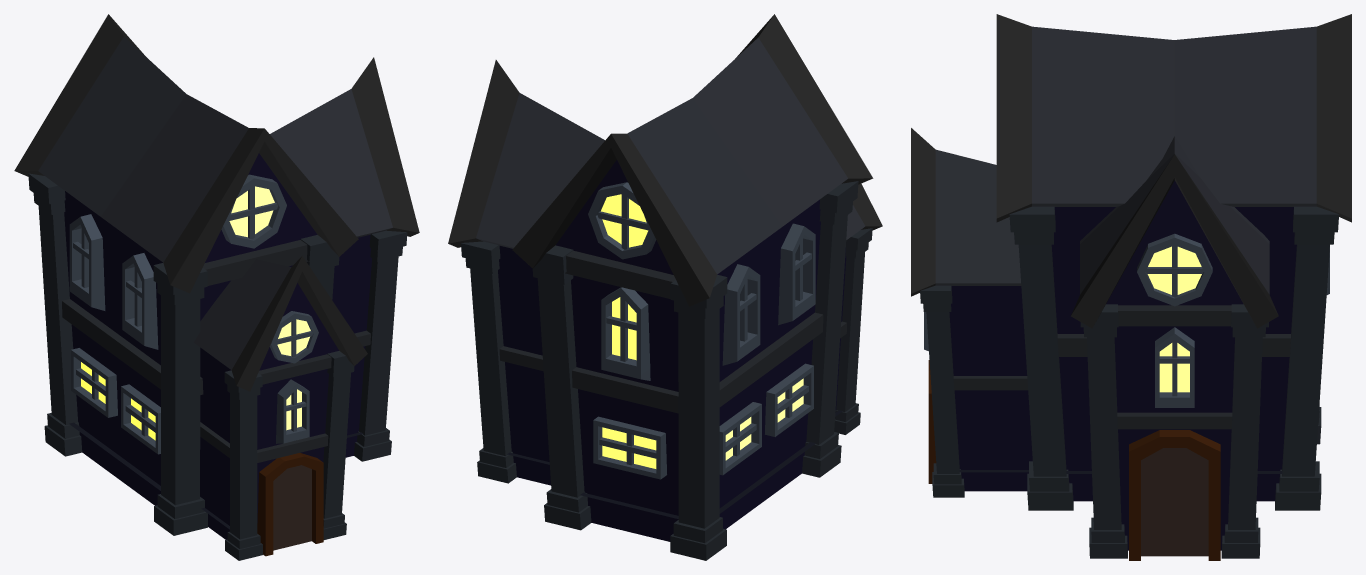
File: CasaGoticaVariante1_Casa03.fbx
3 renders of one model, left to right at view 1: azimuth 30°, elevation 25°; view 2: azimuth 150°, elevation 25°; view 3: azimuth 270°, elevation 25°, orthographic. The views are drawn at different scales.
Parts seen in each view (by area): view 1: Teto03, Pilar03, Parede03, JanelaMolde03, Divisa03, Porta03, PortaContorno03, JanelaFundo03, Base03; view 2: Teto03, Pilar03, Parede03, JanelaMolde03, Divisa03, JanelaFundo03, Base03; view 3: Teto03, Parede03, Pilar03, Porta03, Divisa03, JanelaMolde03, PortaContorno03, JanelaFundo03.
Boxes of the visible parts, x1=… form: Teto03: x1=14, y1=14, x2=419, y2=391; Pilar03: x1=28, y1=173, x2=407, y2=560; Parede03: x1=64, y1=153, x2=371, y2=539; JanelaMolde03: x1=69, y1=174, x2=318, y2=454; Divisa03: x1=62, y1=240, x2=370, y2=462; Porta03: x1=273, y1=465, x2=311, y2=550; PortaContorno03: x1=257, y1=453, x2=323, y2=556; JanelaFundo03: x1=81, y1=186, x2=310, y2=440; Base03: x1=69, y1=422, x2=362, y2=529; Teto03: x1=448, y1=14, x2=882, y2=306; Pilar03: x1=461, y1=181, x2=872, y2=560; Parede03: x1=498, y1=160, x2=846, y2=541; JanelaMolde03: x1=588, y1=182, x2=815, y2=479; Divisa03: x1=499, y1=250, x2=846, y2=413; JanelaFundo03: x1=601, y1=194, x2=803, y2=468; Base03: x1=507, y1=410, x2=842, y2=518; Teto03: x1=911, y1=14, x2=1351, y2=328; Parede03: x1=949, y1=180, x2=1296, y2=550; Pilar03: x1=920, y1=206, x2=1338, y2=558; Porta03: x1=1141, y1=448, x2=1208, y2=556; Divisa03: x1=953, y1=305, x2=1290, y2=429; JanelaMolde03: x1=924, y1=233, x2=1329, y2=407; PortaContorno03: x1=928, y1=360, x2=1220, y2=560; JanelaFundo03: x1=1147, y1=246, x2=1201, y2=392.
Size of the model in its own units: 1643 by 2224 by 1956.
